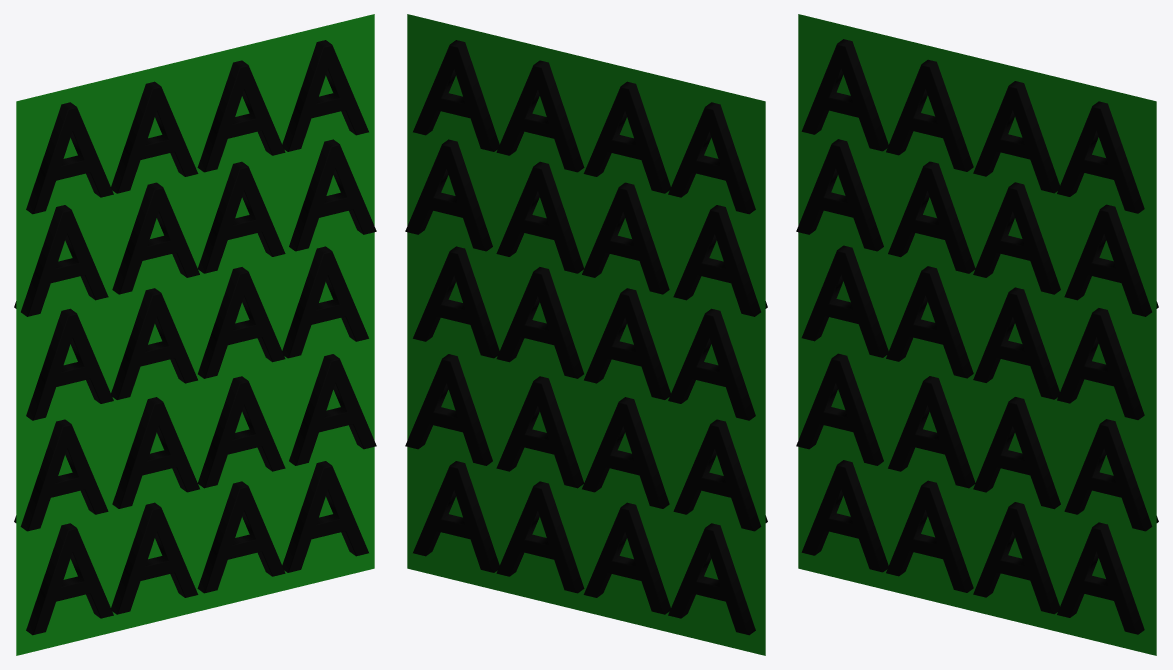
Rendered from continuidad.fbx.
The picture shows the model from 3 angles, left to right: view 1: azimuth 30°, elevation 25°; view 2: azimuth 150°, elevation 25°; view 3: azimuth 330°, elevation 25°; orthographic projection.
Visible parts, largest first — view 1: Plane; view 2: Plane; view 3: Plane.
Part boxes in pixels (bbox=[...]): Plane: bbox=[14, 14, 376, 655]; Plane: bbox=[405, 14, 767, 655]; Plane: bbox=[796, 14, 1158, 655].
Size of the model in its own units: 327 by 484 by 22.
